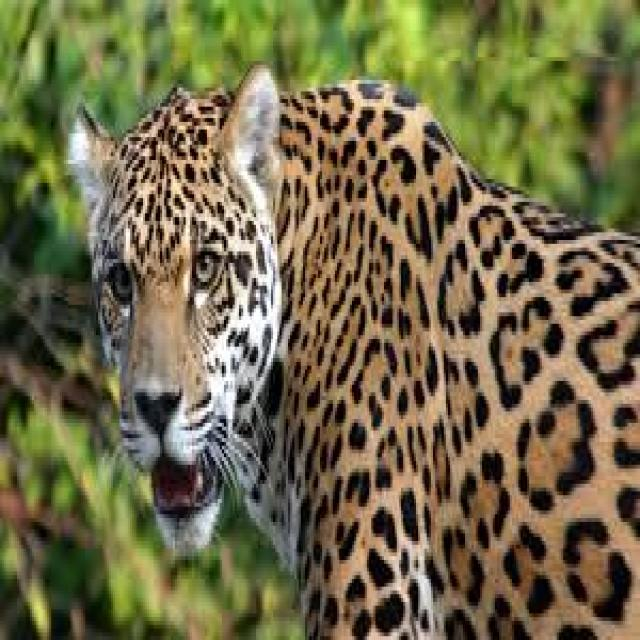Jaguar: (68, 61, 640, 640)
